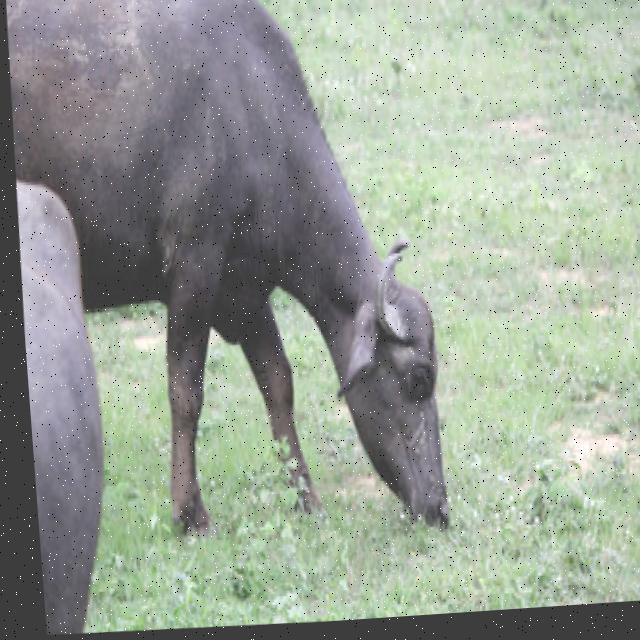Buffalo: (0, 0, 467, 568)
